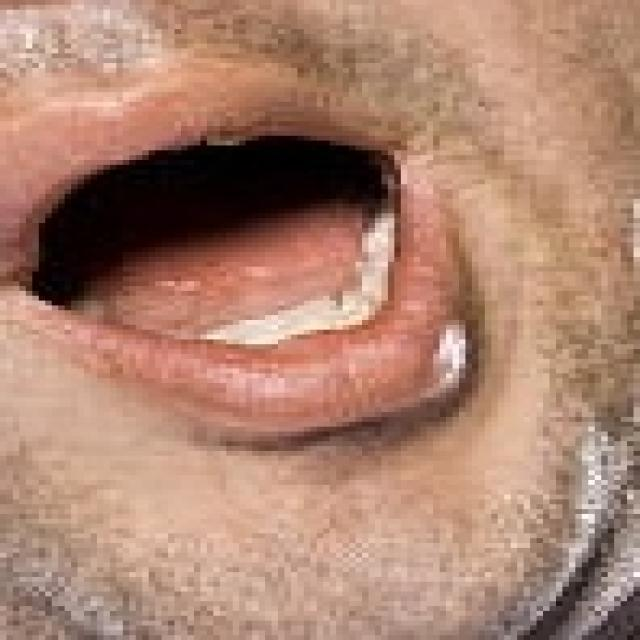open-mouth: (0, 111, 478, 436)
